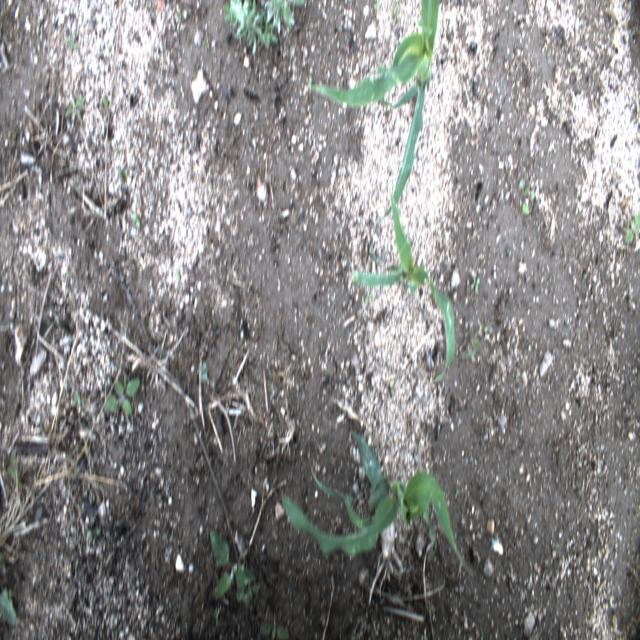crop: (308, 0, 439, 225), (281, 430, 473, 574), (352, 185, 455, 381)
weed: (210, 529, 261, 606), (223, 0, 279, 57), (103, 370, 141, 415), (458, 320, 493, 360), (264, 0, 305, 32), (0, 582, 20, 626), (65, 90, 87, 129), (258, 620, 290, 639), (518, 179, 534, 214), (625, 210, 640, 246), (66, 27, 79, 55), (70, 393, 86, 409), (470, 276, 481, 296), (197, 360, 207, 382), (87, 528, 101, 540), (132, 212, 141, 228)
